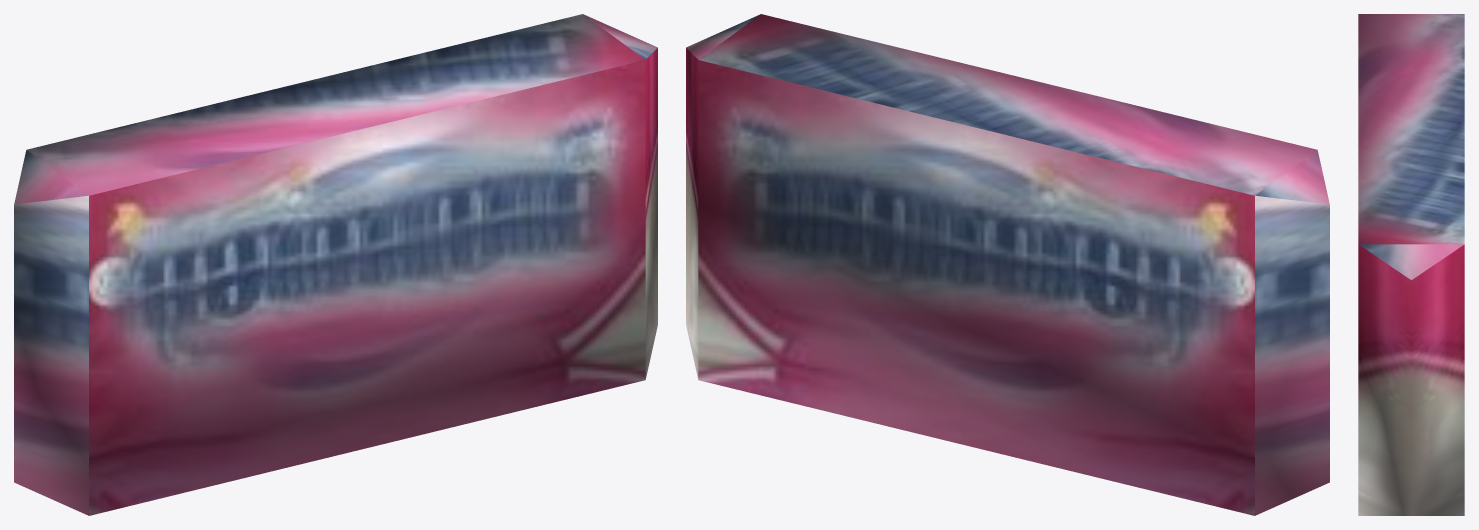
Rendered from Soap_wrapper_04.glb.
3 renders of one model, left to right at view 1: azimuth 30°, elevation 25°; view 2: azimuth 150°, elevation 25°; view 3: azimuth 270°, elevation 25°, orthographic. The views are drawn at different scales.
Parts seen in each view (by area): view 1: Soap_wrapper_04; view 2: Soap_wrapper_04; view 3: Soap_wrapper_04.
Boxes of the visible parts, box(x1,y1,x2,y2) form: Soap_wrapper_04: box(14, 14, 657, 515); Soap_wrapper_04: box(686, 14, 1329, 515); Soap_wrapper_04: box(1358, 14, 1464, 515).
Size of the model in its own units: 0.1955 by 0.0929 by 0.033.
1 material, 1 textured.
